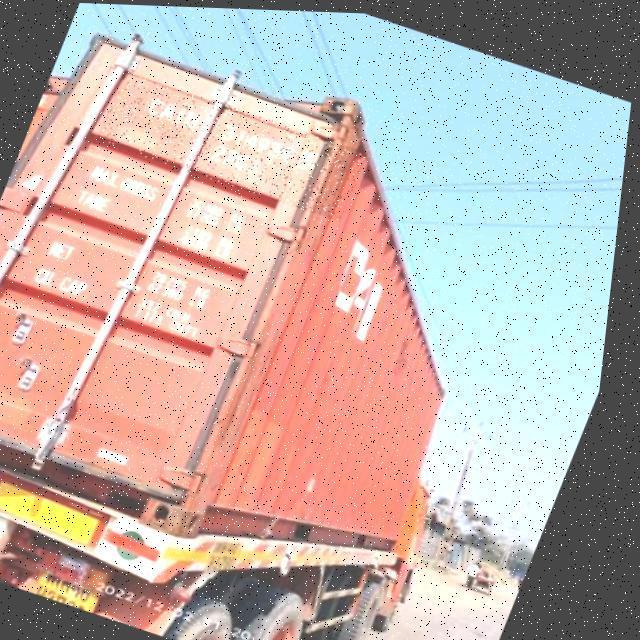container_number_h: (92, 69, 377, 219)
